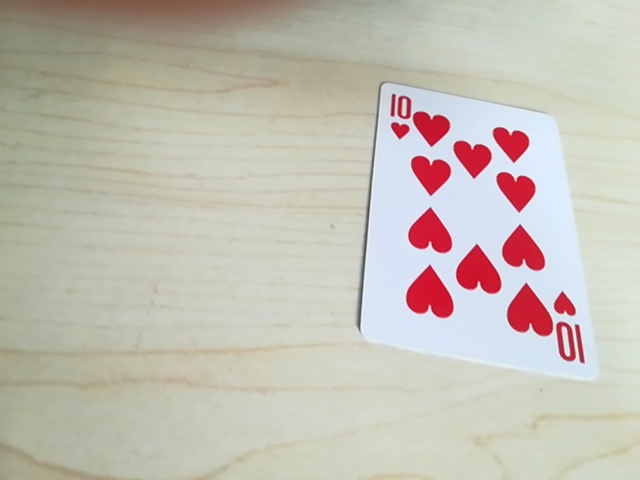hx 10: (549, 300, 587, 369), (385, 83, 427, 143)
